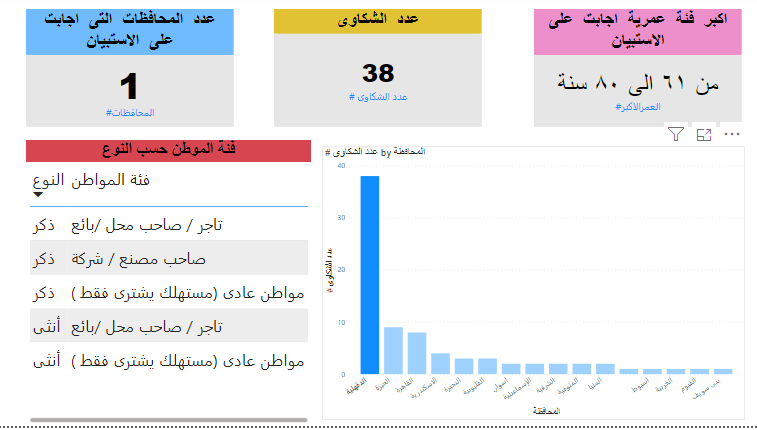

The page's visual inventory and layout, read from the dashboard file:
{"tool":"powerbi","page":{"name":"p 1","canvas":[1280,720],"ordinal":0},"visuals":[{"type":"card","title":"اكبر فئة عمرية اجابت على الاستبيان","fields":{"Values":["رؤية مصر 2030 للغش التجارى فى السلع الغذائية و ارتفاع الاسعار.#العمر"]},"box":[902,20.2,349.4,198.2],"z":0},{"type":"card","title":"عدد المحافظات التى اجابت على الاستبيان","fields":{"Values":["رؤية مصر 2030 للغش التجارى فى السلع الغذائية و ارتفاع الاسعار.#المحافظات"]},"box":[48.7,20.2,349.4,198.2],"z":1000},{"type":"card","title":"عدد الشكاوى ","fields":{"Values":["رؤية مصر 2030 للغش التجارى فى السلع الغذائية و ارتفاع الاسعار.# عدد الشكاوى"]},"box":[465.3,20.2,349.4,198.2],"z":2000},{"type":"tableEx","title":"فئة الموطن حسب النوع","fields":{"Values":["رؤية مصر 2030 للغش التجارى فى السلع الغذائية و ارتفاع الاسعار.النوع","رؤية مصر 2030 للغش التجارى فى السلع الغذائية و ارتفاع الاسعار.فئة المواطن"]},"box":[23.5,240.2,503.9,480.4],"z":3000},{"type":"columnChart","fields":{"Category":["رؤية مصر 2030 للغش التجارى فى السلع الغذائية و ارتفاع الاسعار.المحافظة"],"Y":["رؤية مصر 2030 للغش التجارى فى السلع الغذائية و ارتفاع الاسعار.# عدد الشكاوى"]},"box":[545.9,250.3,710.6,460.3],"z":4000}]}

Visuals, with their boxes in screenshot pixels (x1, y1, x2, y2), scaled from the page's 1280x720 canvas onto the 757x430 screenshot:
"اكبر فئة عمرية اجابت على الاستبيان" card: l=533, t=12, r=740, b=130
"عدد المحافظات التى اجابت على الاستبيان" card: l=29, t=12, r=235, b=130
"عدد الشكاوى " card: l=275, t=12, r=482, b=130
"فئة الموطن حسب النوع" tableEx: l=14, t=143, r=312, b=429
columnChart - رؤية مصر 2030 للغش التجارى فى السلع الغذائية و ارتفاع الاسعار.المحافظة x رؤية مصر 2030 للغش التجارى فى السلع الغذائية و ارتفاع الاسعار.# عدد الشكاوى: l=323, t=149, r=743, b=424
